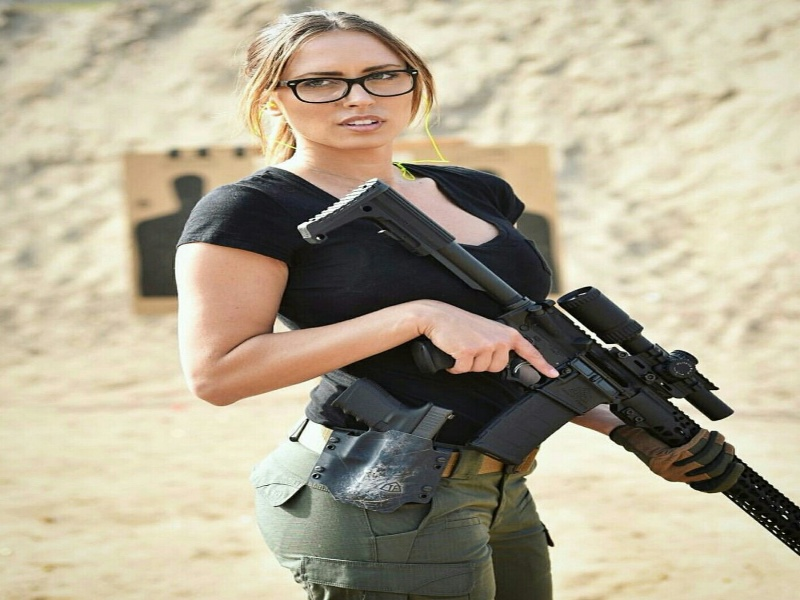person: (173, 10, 745, 600)
weapon: (297, 178, 800, 554)
